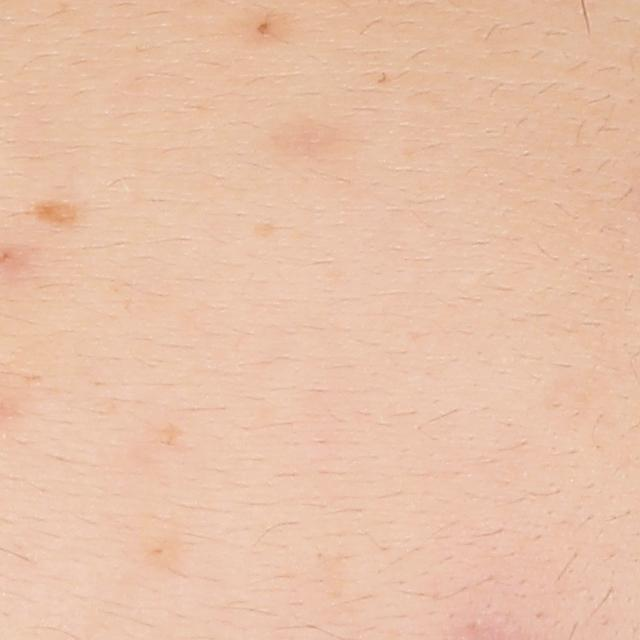melasma: (29, 199, 78, 224)
